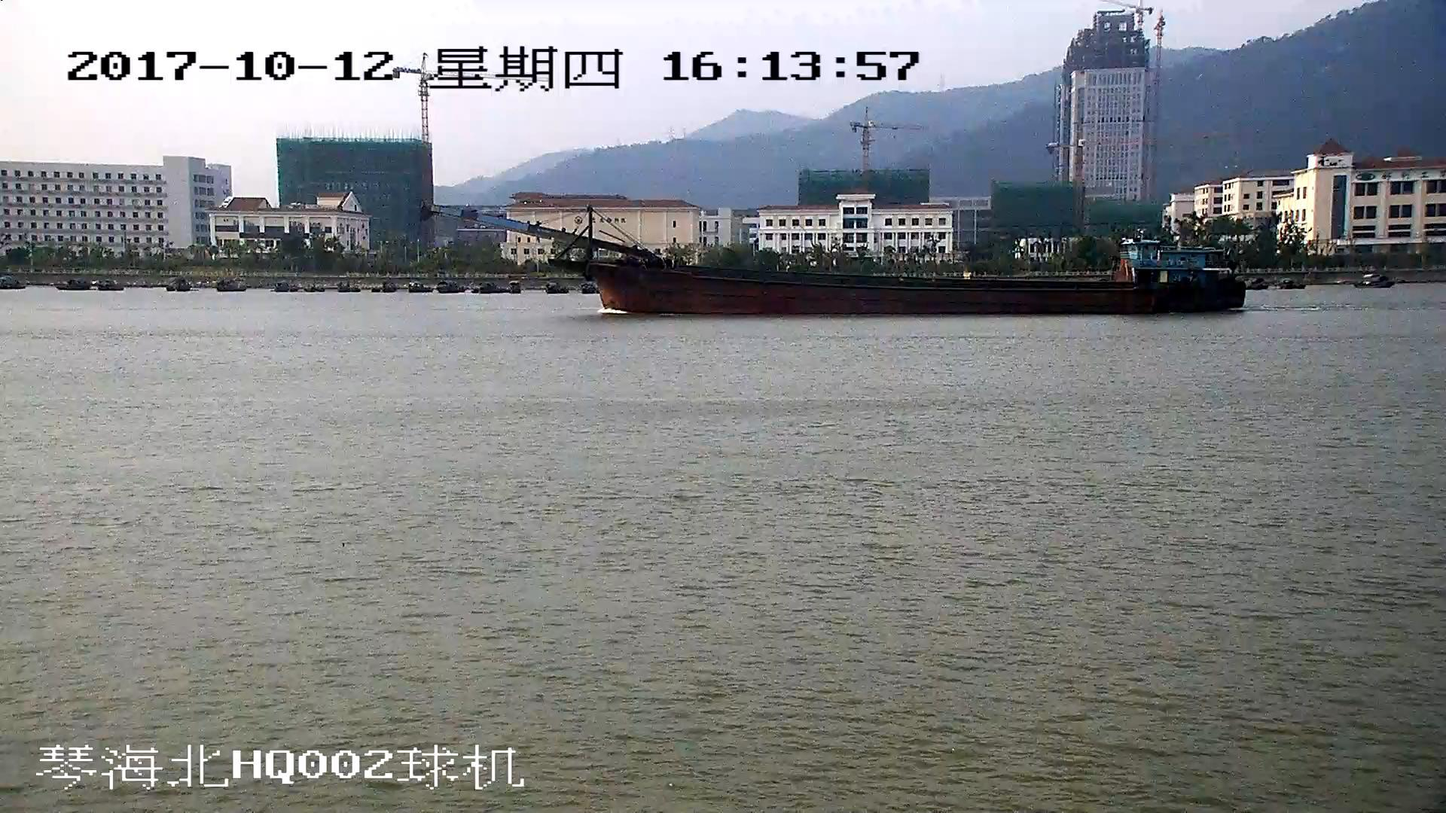bulk cargo carrier: (426, 205, 1243, 315)
